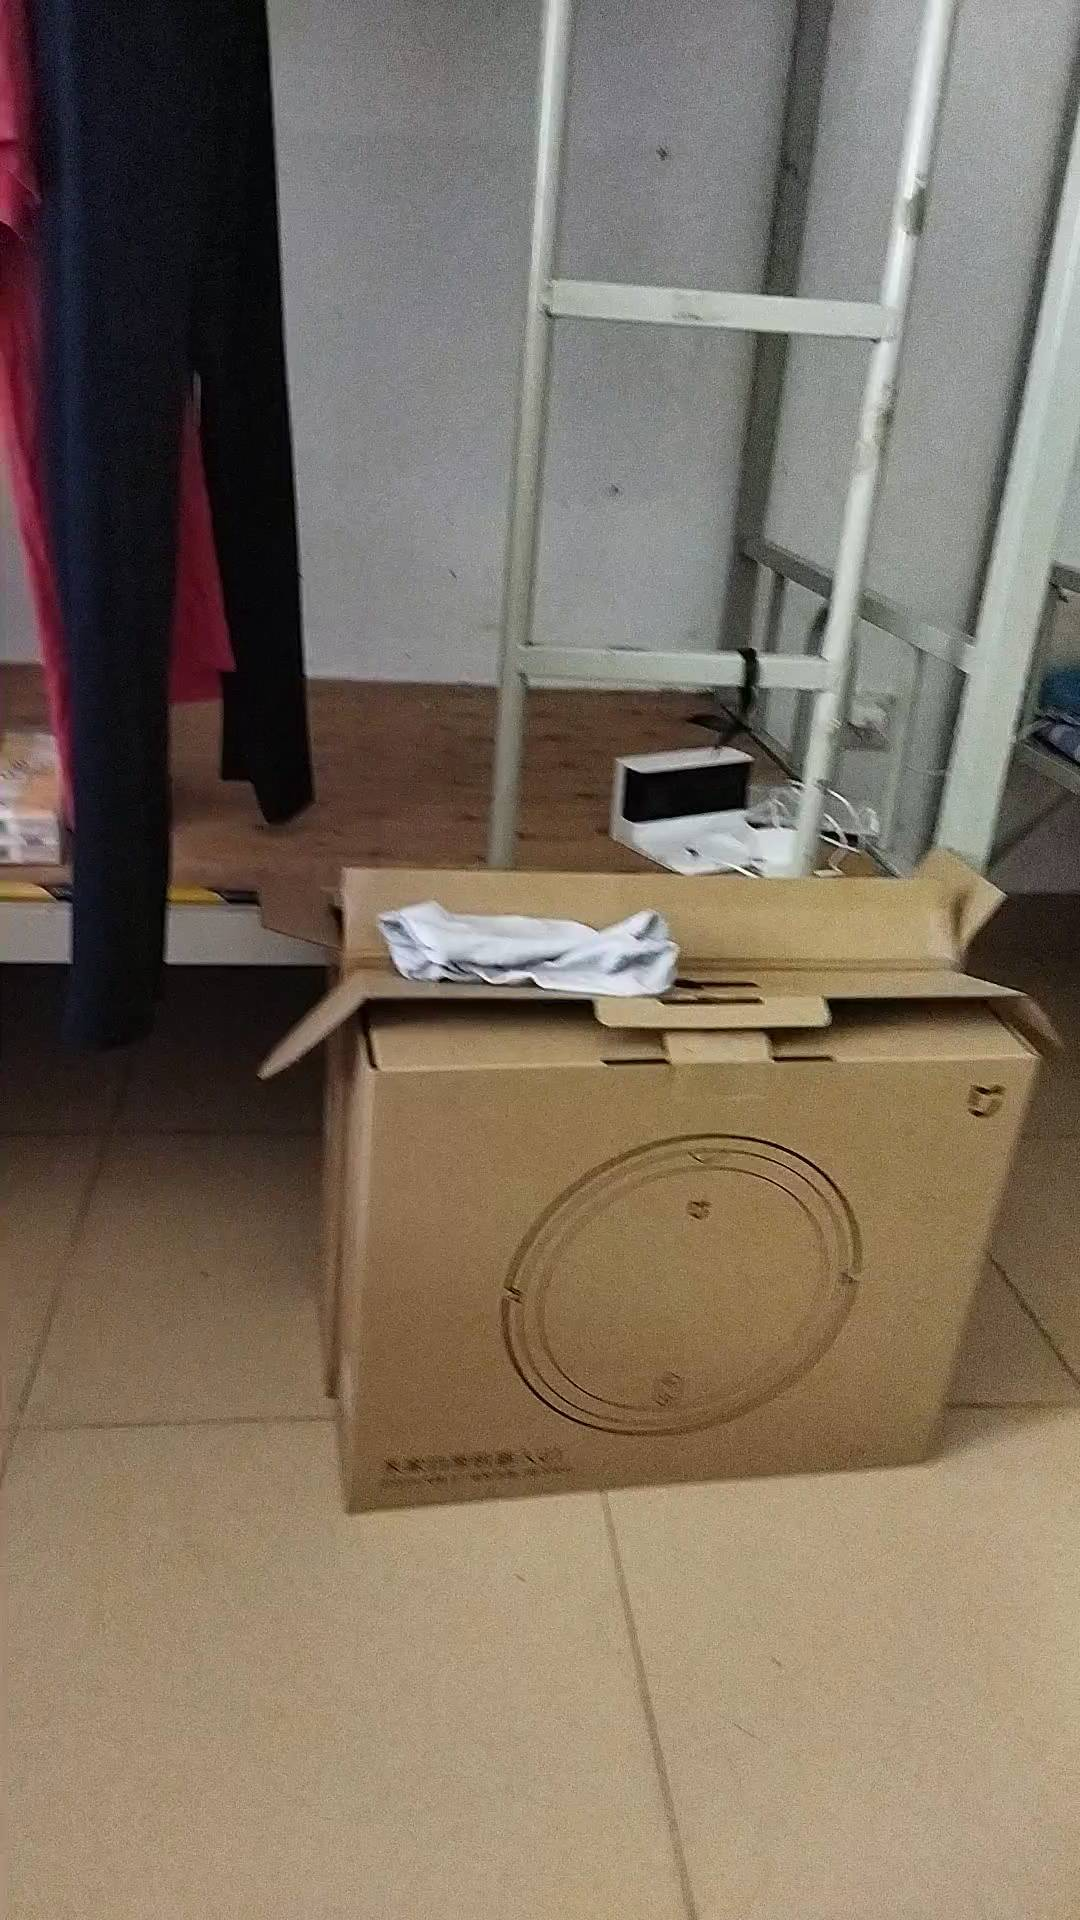recharge seat: (607, 745, 791, 880)
